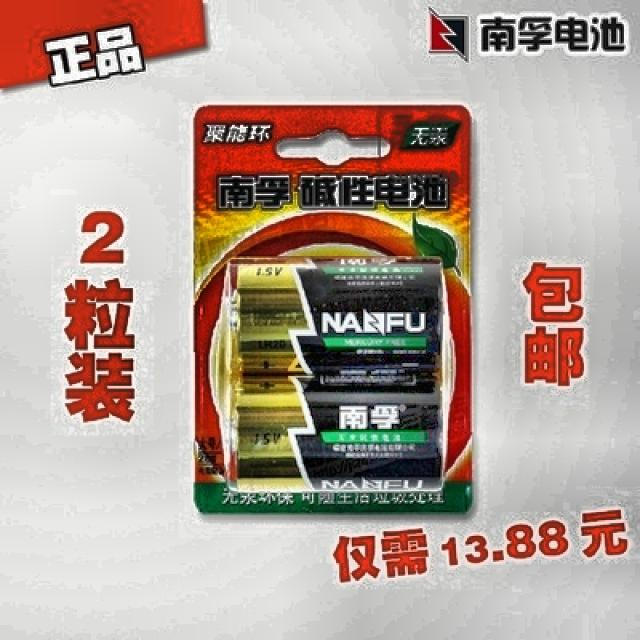Non-Valuable Waste - Batteries: (211, 261, 452, 491)
